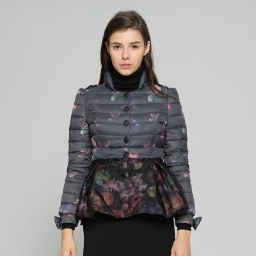face: (93, 5, 163, 91)
